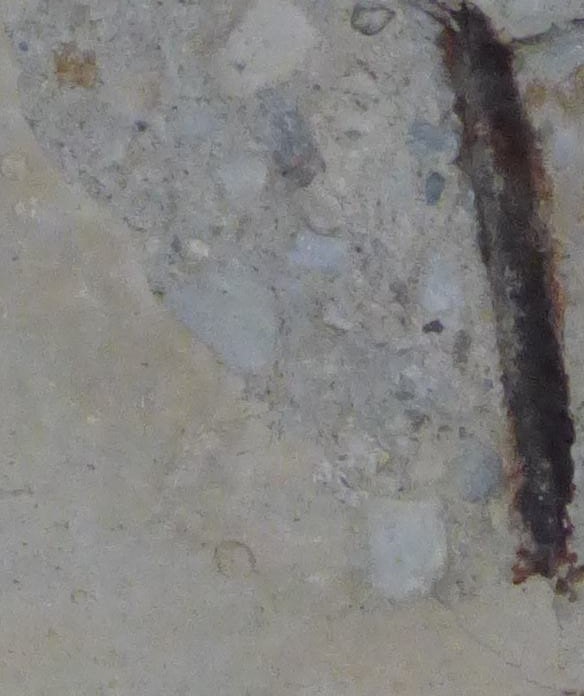Exposed reinforcement: (434, 1, 576, 588)
Spalling: (1, 1, 584, 600)
